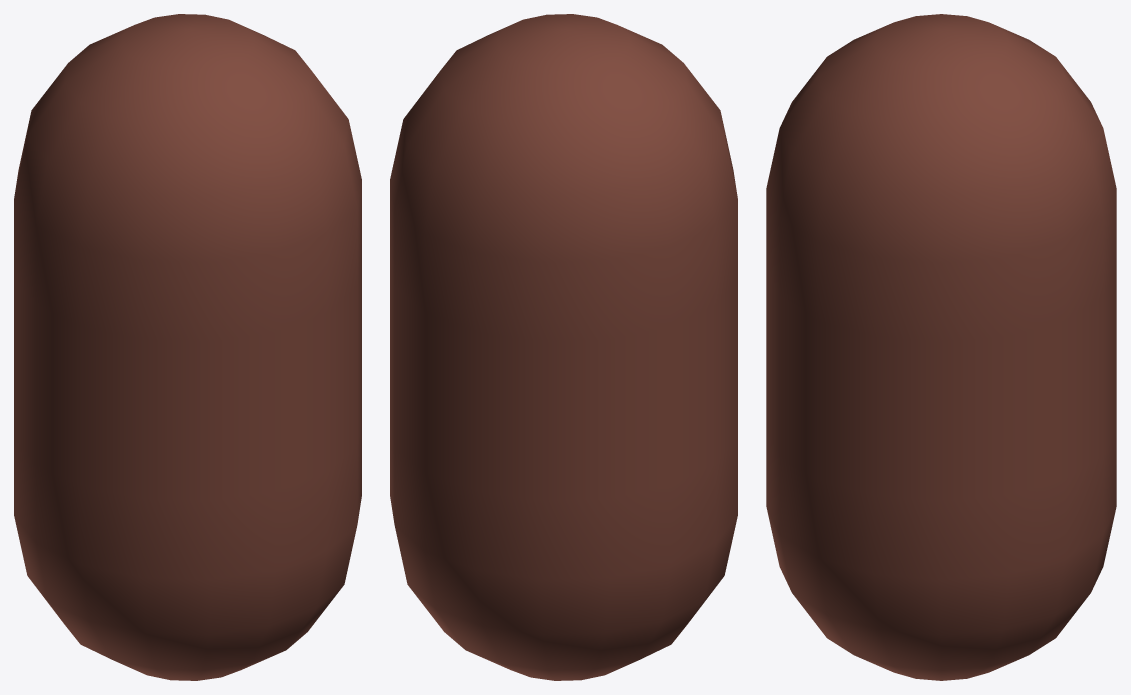
File: player-capsule.glb
The picture shows the model from 3 angles, left to right: view 1: azimuth 30°, elevation 25°; view 2: azimuth 150°, elevation 25°; view 3: azimuth 270°, elevation 25°; orthographic projection.
Parts seen in each view (by area): view 1: Sphere; view 2: Sphere; view 3: Sphere.
Boxes of the visible parts, x1,y1,x2,y2 form: Sphere: (14, 14, 361, 680); Sphere: (390, 14, 737, 680); Sphere: (766, 14, 1116, 680).
Size of the model in its own units: 1 by 2 by 1.
